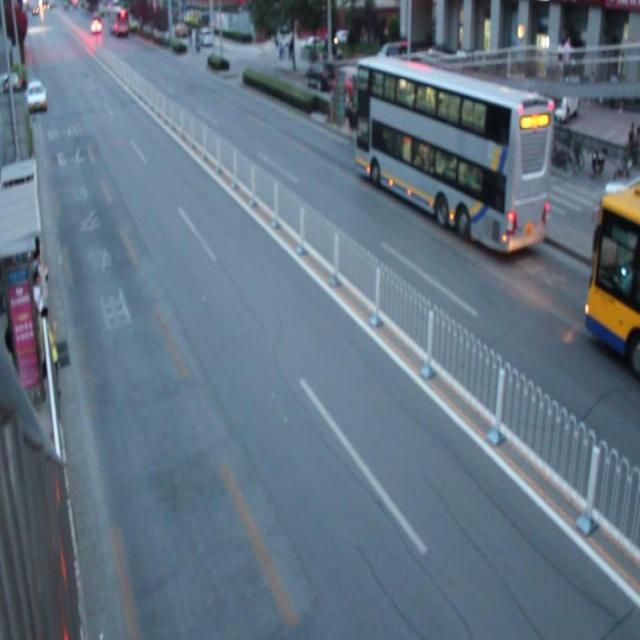van: (352, 56, 550, 256), (586, 187, 640, 368)
